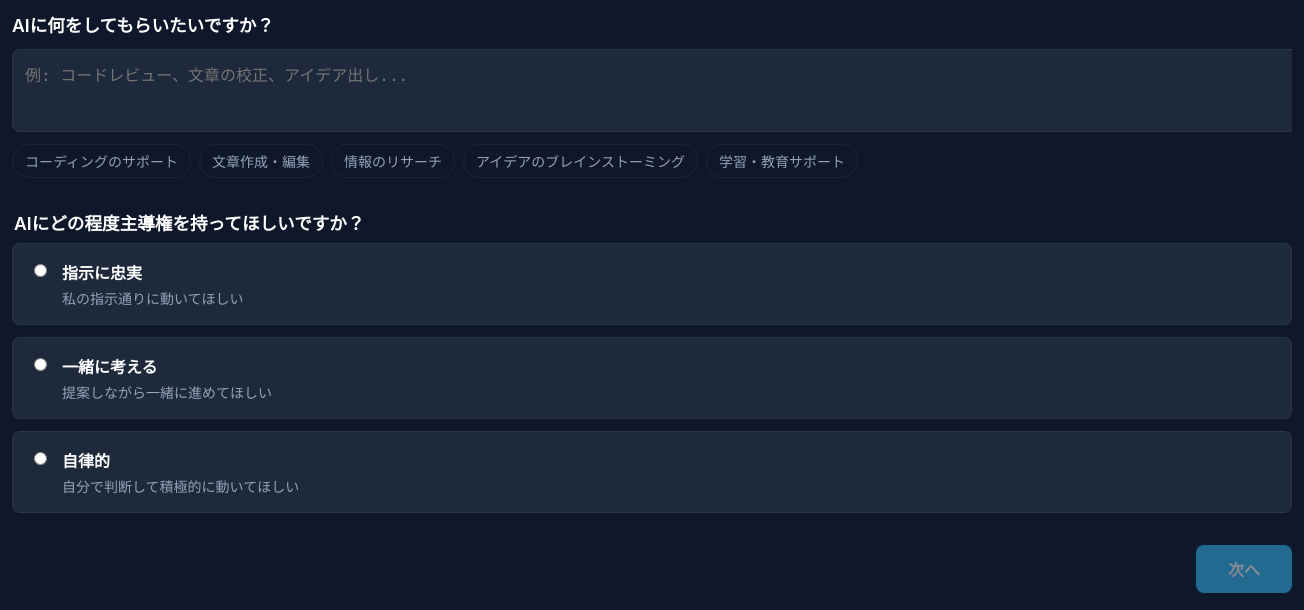
Test case: InitialQuestions › 入力 › 自律性を選択できる
This screenshot has width=1304, height=610.
Step 1. Click the text "一緒に考える" → [110, 367], box [62,357,158,377]
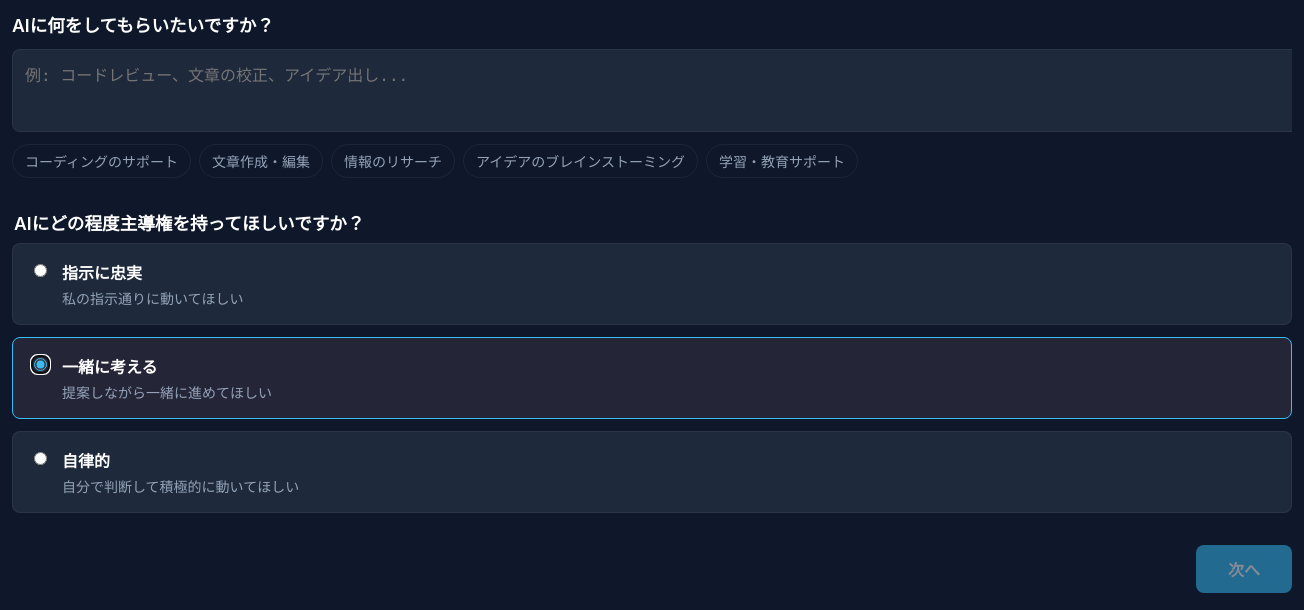
Check: the radio button labelled "一緒に考える 提案しながら一緒に進めてほしい" is checked, box [34,358,47,371]
